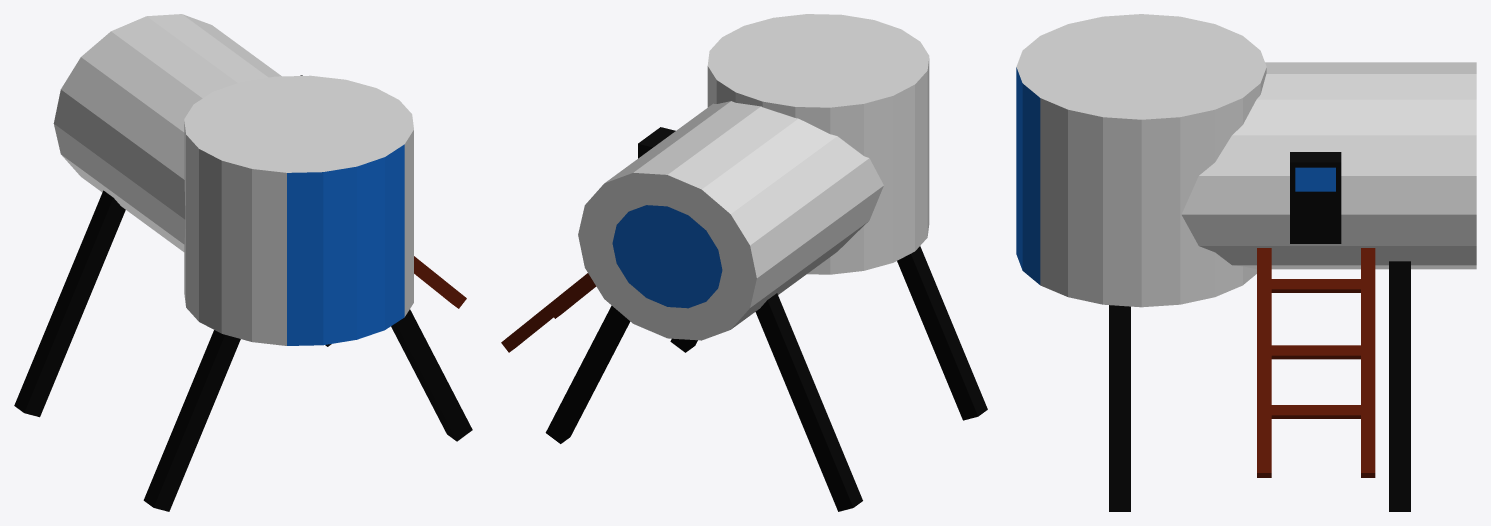
Rendered from 2people.obj.
3 renders of one model, left to right at view 1: azimuth 30°, elevation 25°; view 2: azimuth 150°, elevation 25°; view 3: azimuth 270°, elevation 25°, orthographic. The views are drawn at different scales.
Visible parts, largest first — view 1: Cube.014; view 2: Cube.014; view 3: Cube.014.
Part boxes in pixels (<box>): Cube.014: <box>14,14,472,511</box>; Cube.014: <box>501,14,987,511</box>; Cube.014: <box>1016,14,1476,511</box>.
Bounding box in the file's own units: 4.12 × 3.52 × 3.97.
